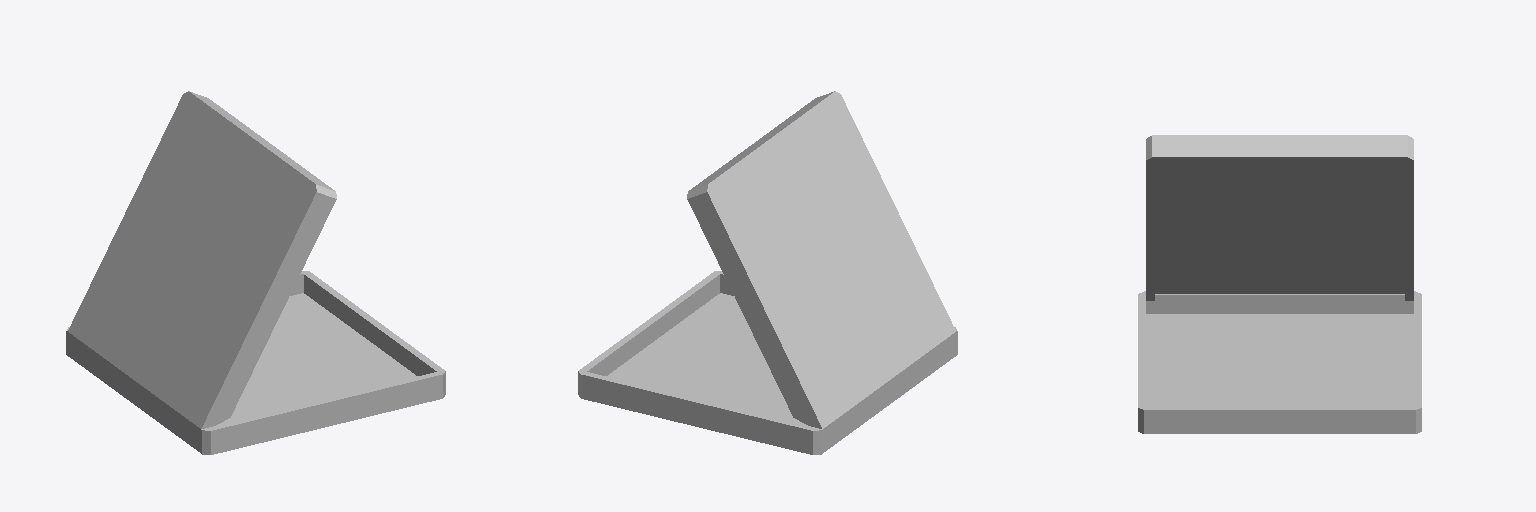
The model's file is pizza-box.obj.
3 views of the same model, side by side, from view 1: azimuth 30°, elevation 25°; view 2: azimuth 150°, elevation 25°; view 3: azimuth 270°, elevation 25° (orthographic).
Visible parts, largest first — view 1: lid, pizza-box; view 2: lid, pizza-box; view 3: lid, pizza-box.
Boxes of the visible parts, x1,y1,x2,y2 form: lid: [68, 91, 336, 428]; pizza-box: [66, 271, 445, 454]; lid: [687, 91, 955, 428]; pizza-box: [578, 271, 957, 454]; lid: [1146, 135, 1413, 300]; pizza-box: [1138, 291, 1421, 433].
Size of the model in its own units: 0.9418 by 0.8816 by 0.9518.